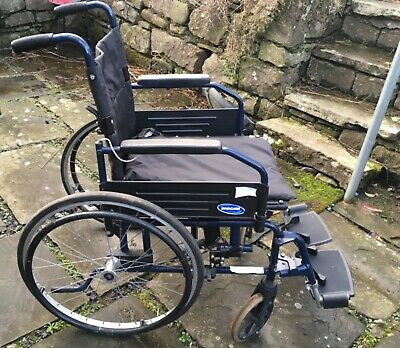wheelchair: (11, 1, 350, 342)
